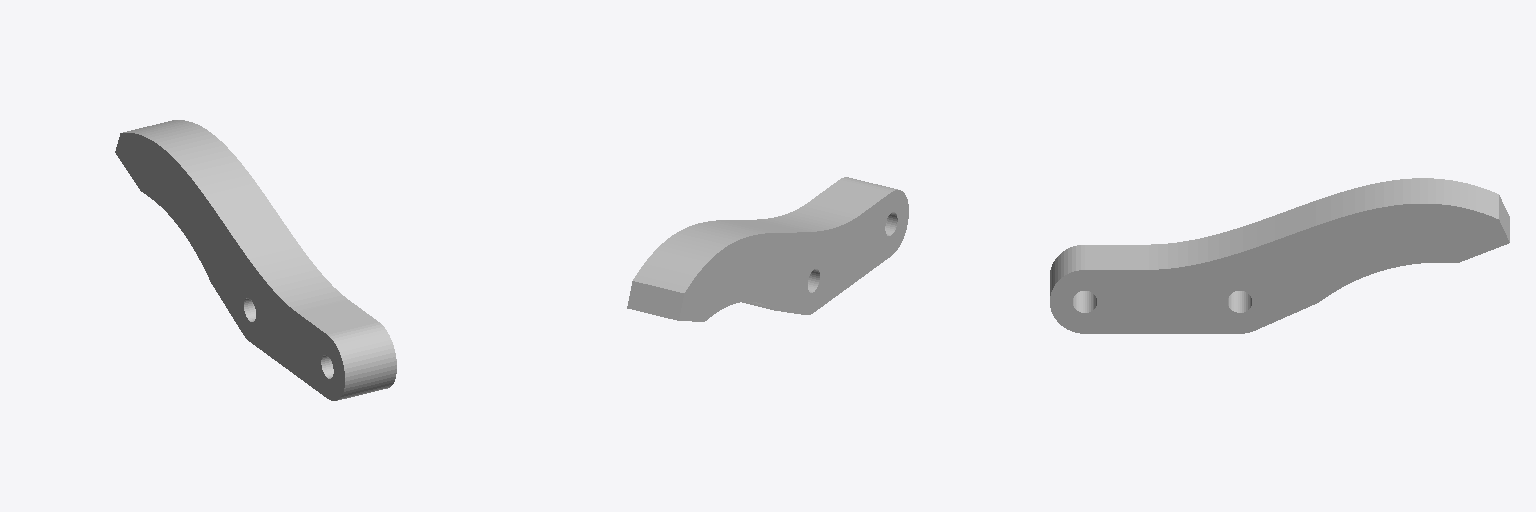
The model's file is fabconvert_com_gripper_2_obj.obj.
3 renders of one model, left to right at view 1: azimuth 30°, elevation 25°; view 2: azimuth 150°, elevation 25°; view 3: azimuth 270°, elevation 25°, orthographic.
Parts seen in each view (by area): view 1: fabconvert.com_gripper_1; view 2: fabconvert.com_gripper_1; view 3: fabconvert.com_gripper_1.
Boxes of the visible parts, box(x1,y1,x2,y2) form: fabconvert.com_gripper_1: box(115, 120, 396, 400); fabconvert.com_gripper_1: box(627, 177, 908, 321); fabconvert.com_gripper_1: box(1050, 178, 1509, 333).
Size of the model in its own units: 0.258 by 0.6189 by 1.98.